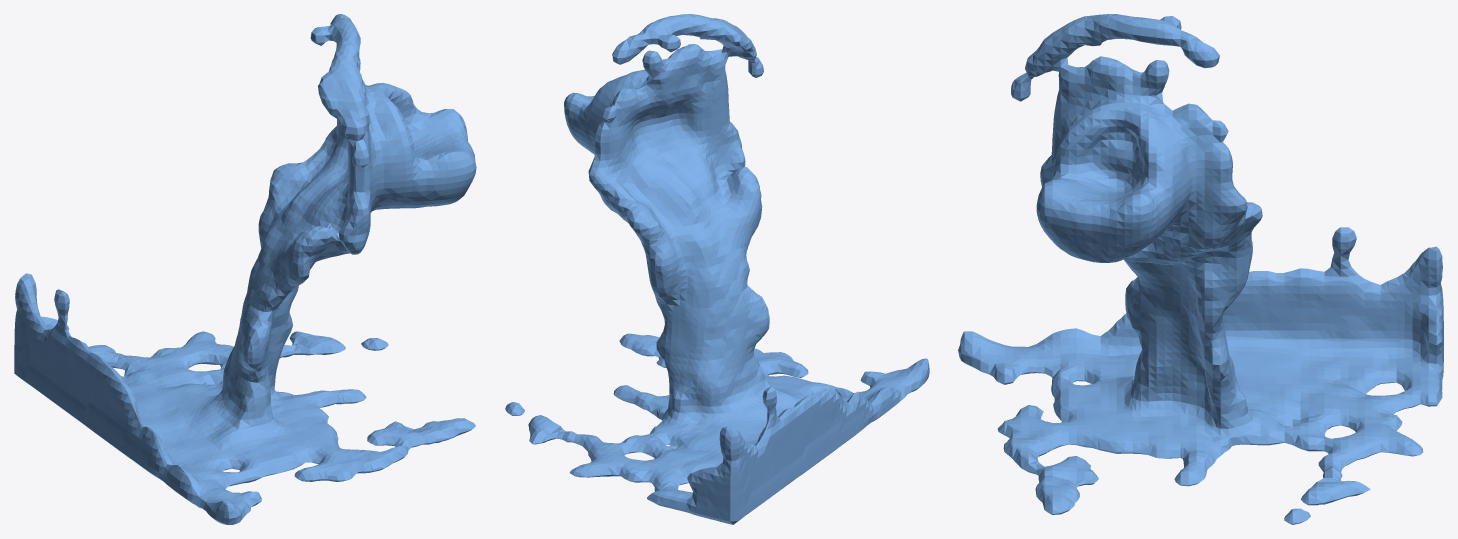
The model's file is water_0041.glb.
3 views of the same model, side by side, from view 1: azimuth 30°, elevation 25°; view 2: azimuth 150°, elevation 25°; view 3: azimuth 270°, elevation 25° (orthographic). The views are drawn at different scales.
Visible parts, largest first — view 1: Water_0041; view 2: Water_0041; view 3: Water_0041.
Part boxes in pixels (<box>): Water_0041: <box>14,14,476,524</box>; Water_0041: <box>505,14,929,524</box>; Water_0041: <box>958,14,1443,524</box>.
Bounding box in the file's own units: 3.04 × 3.65 × 3.54.
